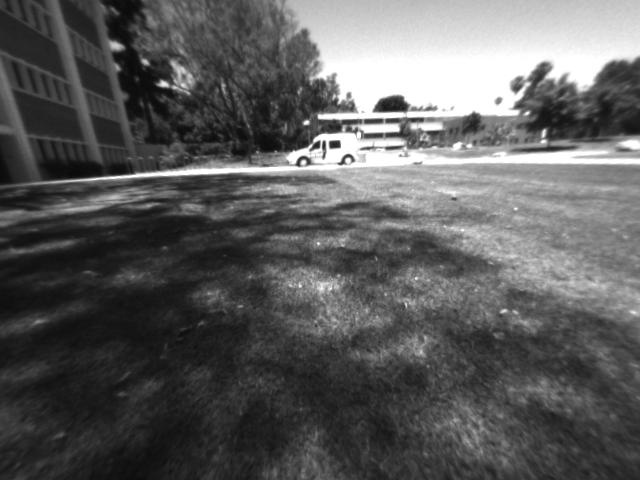dogtoy: (443, 188, 466, 204)
